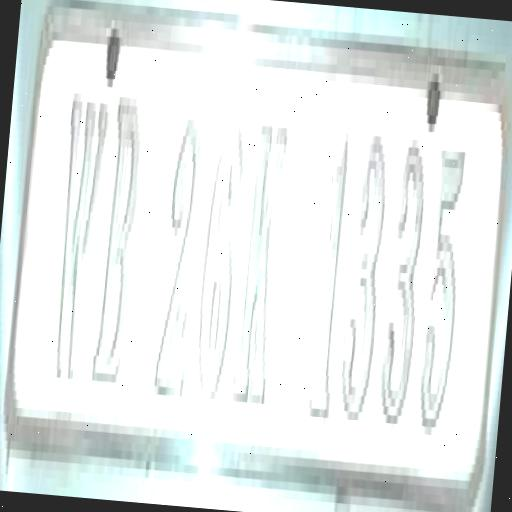number plate: (2, 5, 512, 508)
